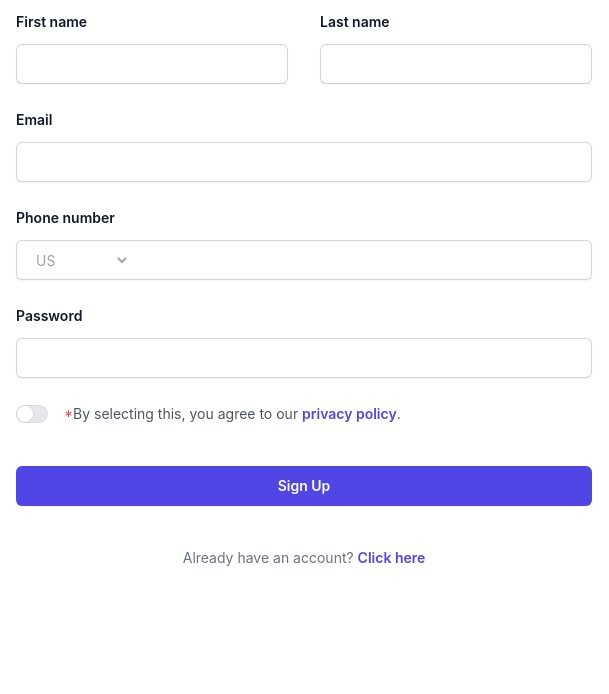
Test: Signup Page › should display validation errors when required fields are empty
(page scrolled)
What coordinates should you click on to do the following:
click the submit button
I would click on:
 (304, 486)
Its box is [16,466,592,506].
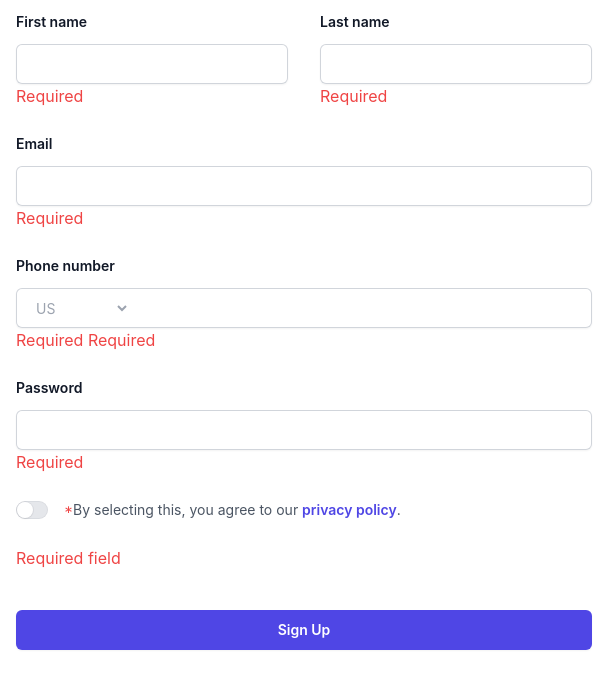
Expected: the text "Required" below "First name" is shown, [16,86,83,106]
